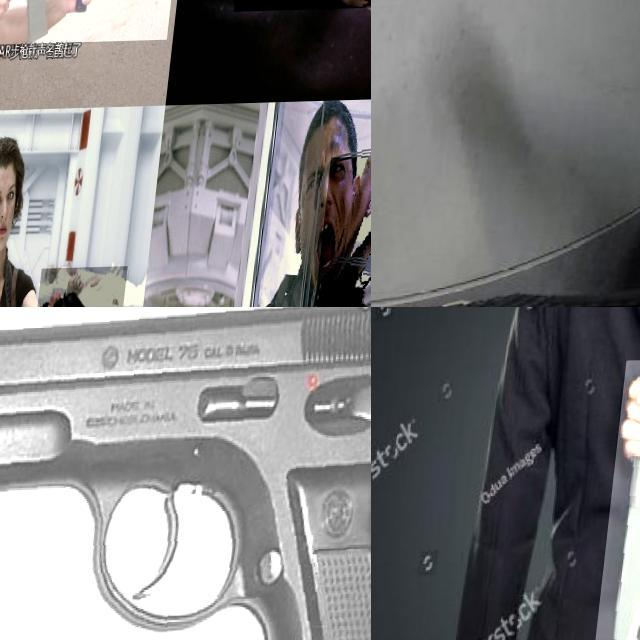-: (371, 0, 490, 94), (602, 360, 640, 640)
gun-knife-thesis - v11 Yolov5 augmented: (0, 307, 371, 640), (0, 0, 185, 73), (239, 0, 371, 85), (319, 158, 371, 307), (42, 267, 139, 307)
